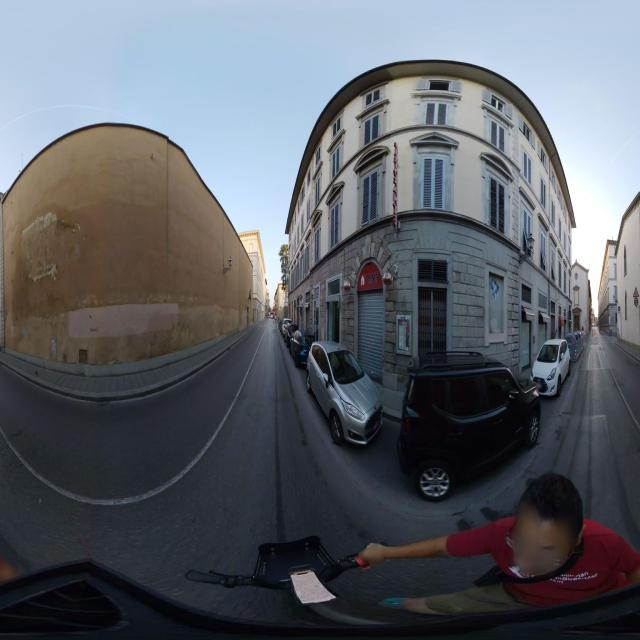car: (397, 358, 542, 503), (306, 341, 383, 448), (531, 338, 572, 398), (294, 332, 314, 368), (564, 332, 580, 360), (288, 323, 299, 348), (289, 326, 300, 350), (281, 317, 291, 337)
